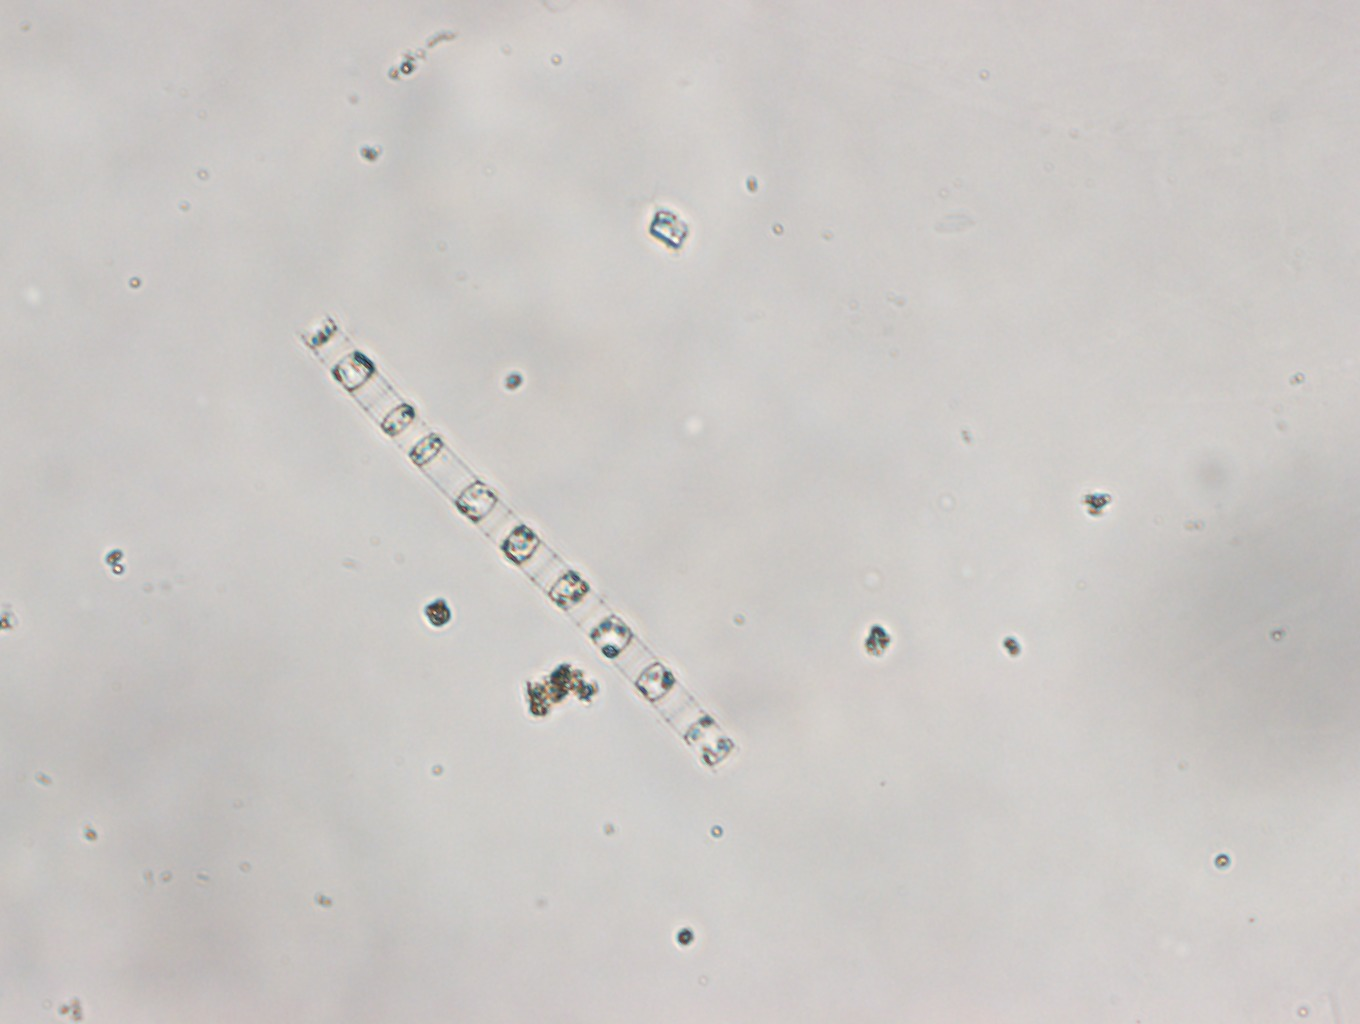skeletonema: (294, 308, 741, 776)
